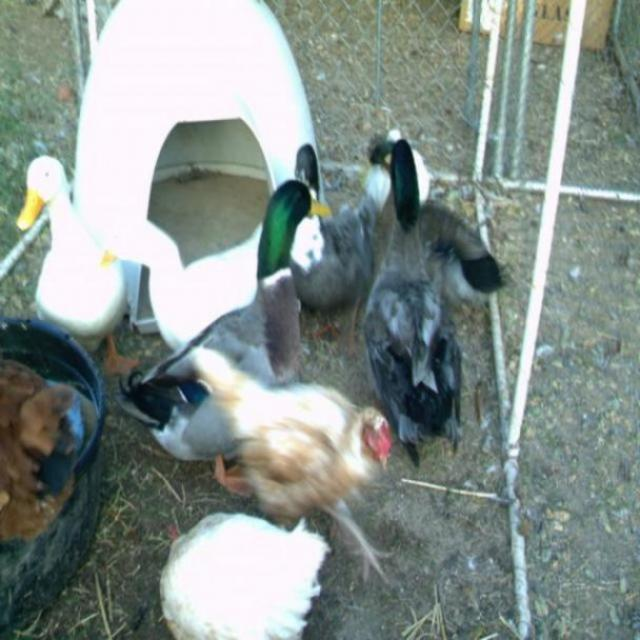Chicken: (177, 365, 396, 592), (155, 513, 327, 640), (0, 354, 64, 539)
